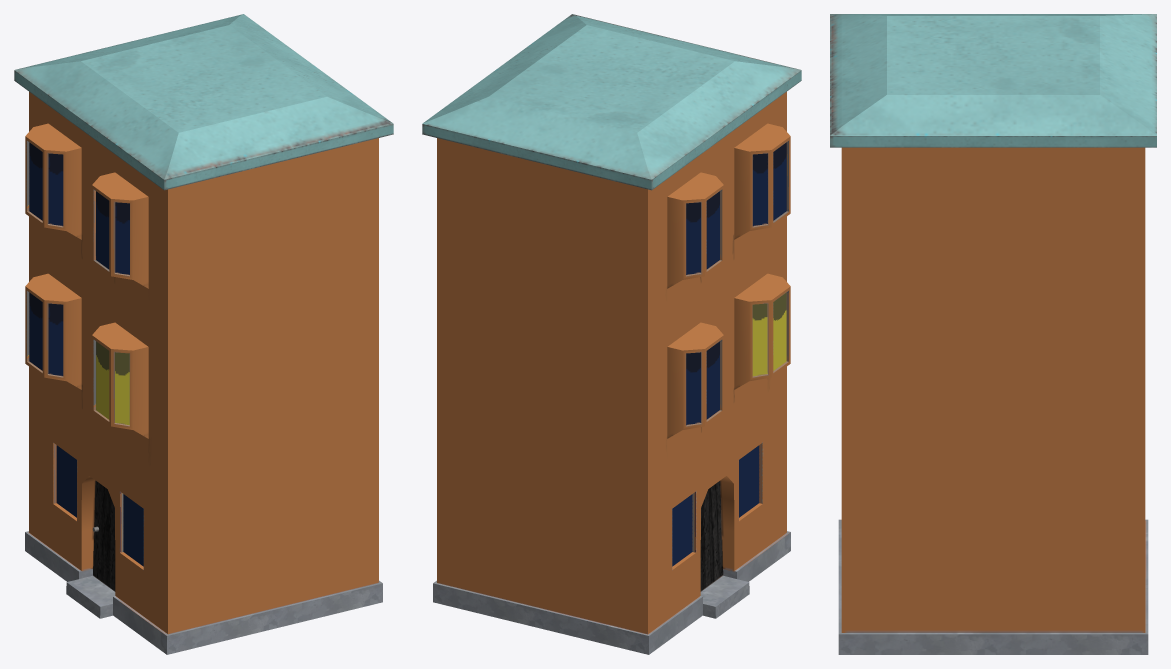
Rendered from House5.glb.
3 renders of one model, left to right at view 1: azimuth 30°, elevation 25°; view 2: azimuth 150°, elevation 25°; view 3: azimuth 270°, elevation 25°, orthographic. The views are drawn at different scales.
Visible parts, largest first — view 1: Box001; view 2: Box001; view 3: Box001.
Boxes of the visible parts, x1,y1,x2,y2 form: Box001: (14, 14, 393, 654); Box001: (422, 14, 801, 654); Box001: (830, 14, 1156, 654).
Bounding box in the file's own units: 2.11 × 4.01 × 2.19.
1 material, 1 textured.
